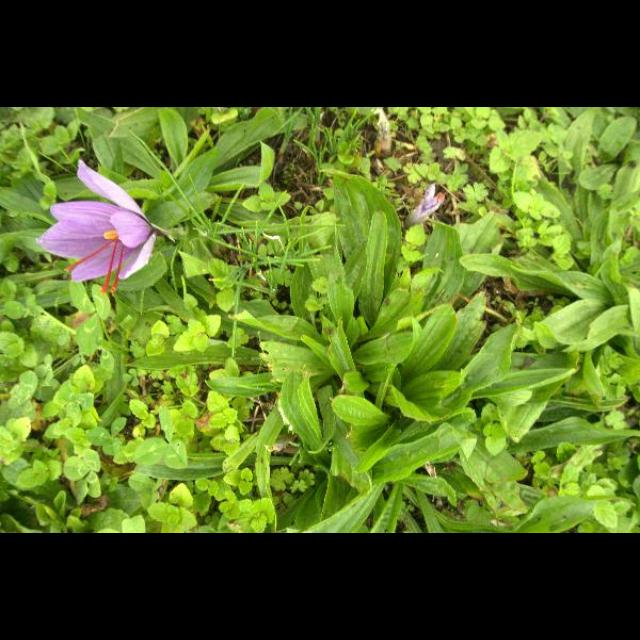flower: (40, 160, 158, 296)
